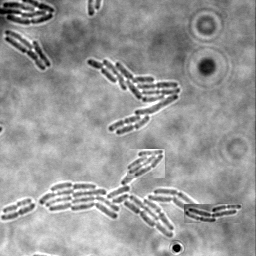Dividing: (1, 204, 37, 222), (3, 199, 33, 215)
Microcolony: (40, 167, 199, 238), (87, 59, 181, 136), (5, 30, 52, 72), (1, 1, 56, 26), (184, 204, 242, 223), (127, 149, 165, 178)
